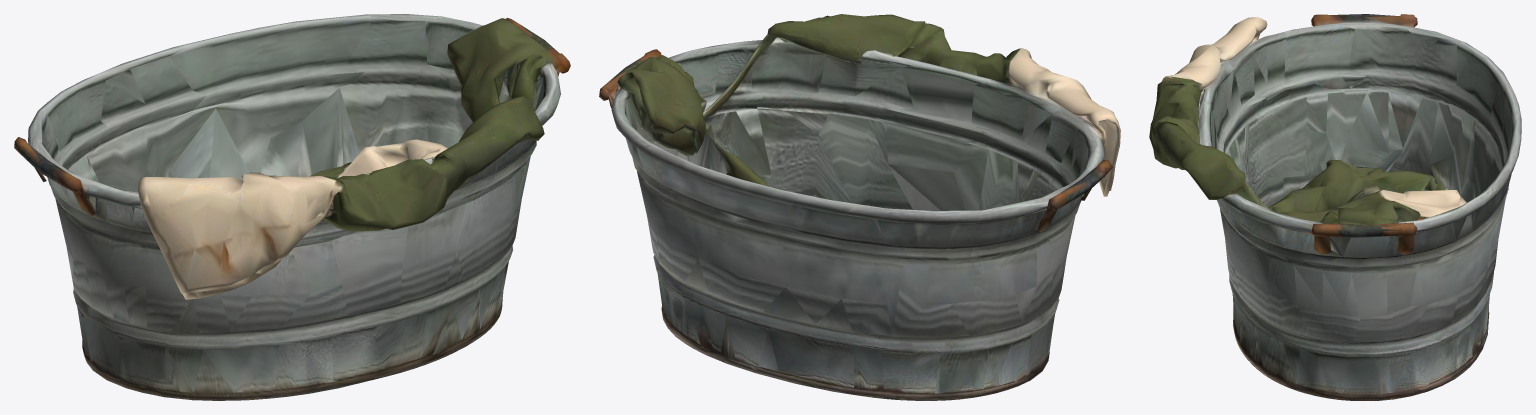
The model's file is CompleteSoakingBasinAndLinen_Optimized.glb.
3 renders of one model, left to right at view 1: azimuth 30°, elevation 25°; view 2: azimuth 150°, elevation 25°; view 3: azimuth 270°, elevation 25°, orthographic. The views are drawn at different scales.
Visible parts, largest first — view 1: Mesh_0.001; view 2: Mesh_0.001; view 3: Mesh_0.001.
Boxes of the visible parts, <box> form: Mesh_0.001: <box>14,14,570,400</box>; Mesh_0.001: <box>599,14,1120,400</box>; Mesh_0.001: <box>1149,14,1521,400</box>.
Bounding box in the file's own units: 1.9 × 0.8937 × 1.38.
1 material, 1 textured.
